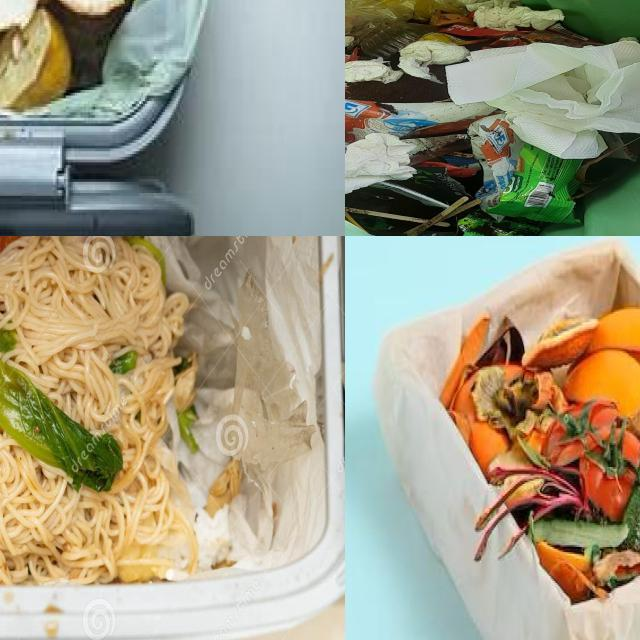Disposable: (353, 20, 436, 59)
Garbage: (395, 239, 640, 606), (345, 0, 640, 236), (0, 236, 199, 585)
Plastic_Bag: (345, 99, 495, 142), (469, 115, 525, 209), (345, 0, 469, 32), (370, 180, 451, 208), (206, 463, 241, 514)
Plastic_wraper: (484, 142, 582, 224), (457, 211, 543, 236), (522, 30, 603, 48), (484, 35, 528, 49)
